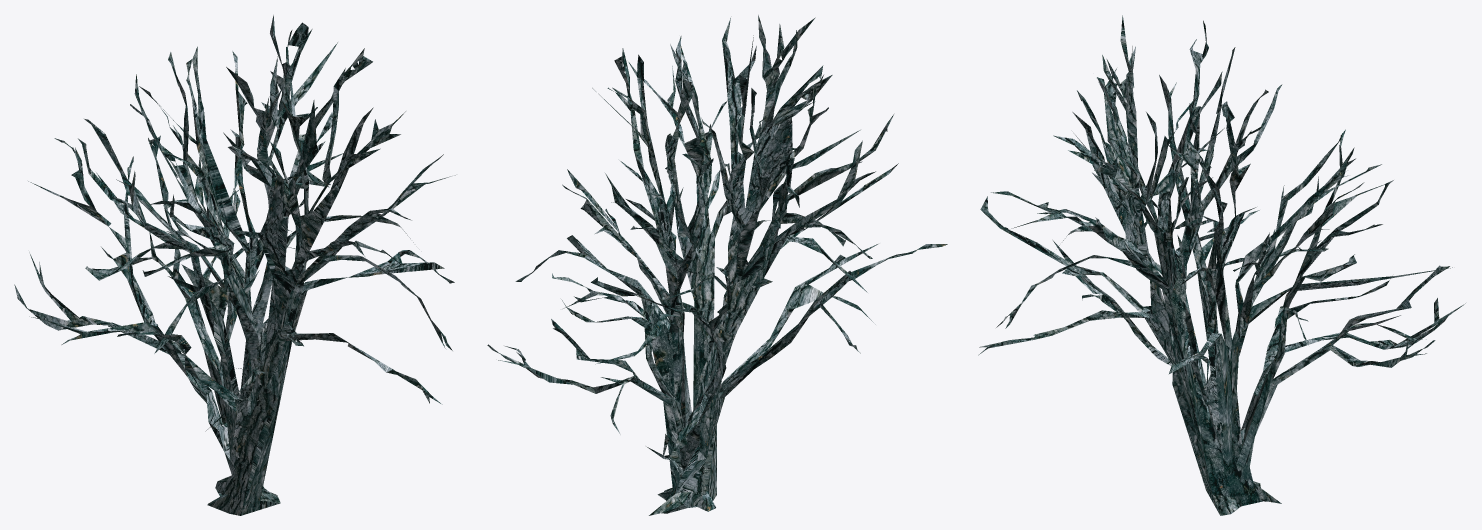
File: tree decimated3.fbx
3 renders of one model, left to right at view 1: azimuth 30°, elevation 25°; view 2: azimuth 150°, elevation 25°; view 3: azimuth 270°, elevation 25°, orthographic. The views are drawn at different scales.
Visible parts, largest first — view 1: raw2; view 2: raw2; view 3: raw2.
Part boxes in pixels (bbox=[...]): raw2: bbox=[14, 15, 455, 515]; raw2: bbox=[487, 15, 947, 515]; raw2: bbox=[978, 15, 1465, 515].
Size of the model in its own units: 225 by 269 by 262.
Materials: 1 (1 with a texture image).
